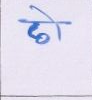e_matra: (29, 5, 57, 20)
